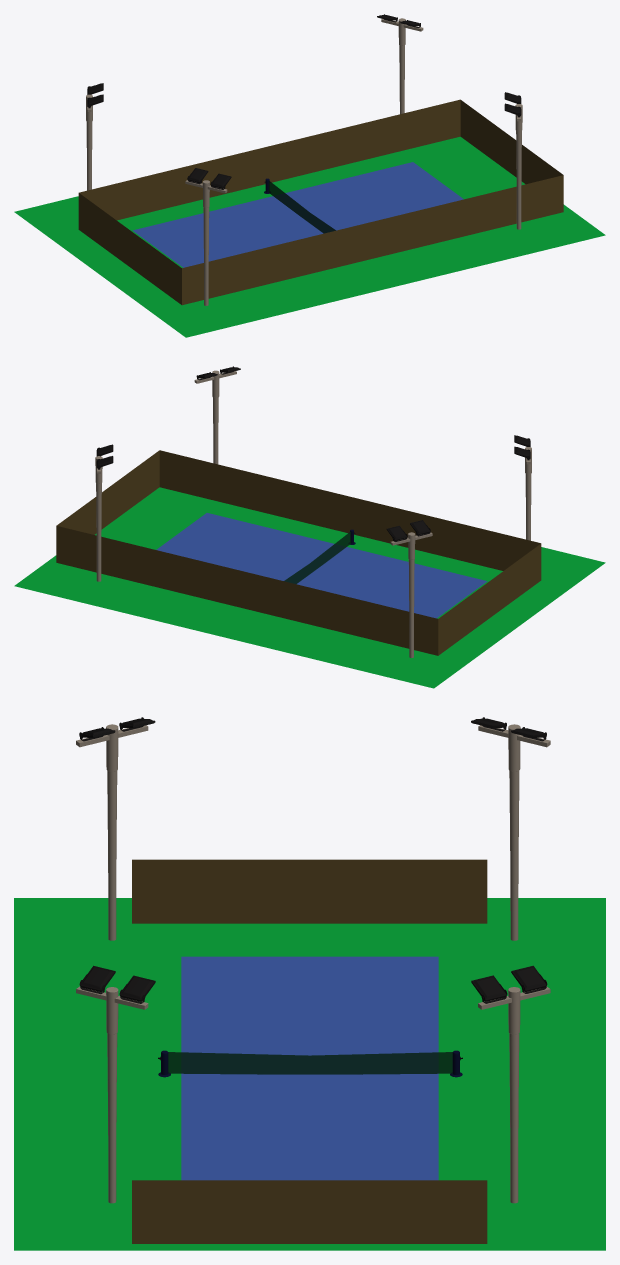
File: TennisCourt.fbx
3 renders of one model, top to bottom at view 1: azimuth 30°, elevation 25°; view 2: azimuth 150°, elevation 25°; view 3: azimuth 270°, elevation 25°, orthographic. The views are drawn at different scales.
Parts seen in each view (by area): view 1: MainFloor, Wall, Field1, Wall_02, Wall_04, Wall_03, FloodLight_03, FloodLight_04, FloodLight, FloodLight_02, Net; view 2: MainFloor, Wall_02, Field1, Wall, Wall_04, Wall_03, FloodLight_02, FloodLight, FloodLight_04, FloodLight_03, Net; view 3: MainFloor, Field1, Wall_04, Wall_03, Net, FloodLight, FloodLight_04, FloodLight_02, FloodLight_03.
Part boxes in pixels (box(x1,y1,x2,y2)): MainFloor: box(14, 136, 605, 337); Wall: box(182, 175, 563, 305); Field1: box(132, 162, 463, 267); Wall_02: box(79, 99, 460, 220); Wall_04: box(78, 193, 181, 304); Wall_03: box(460, 100, 562, 184); FloodLight_03: box(185, 168, 231, 305); FloodLight_04: box(504, 92, 522, 229); FloodLight: box(377, 14, 423, 114); FloodLight_02: box(86, 83, 103, 190); Net: box(268, 180, 335, 233); MainFloor: box(14, 487, 605, 688); Wall_02: box(56, 526, 438, 655); Field1: box(156, 513, 487, 618); Wall: box(159, 450, 540, 570); Wall_04: box(438, 544, 541, 655); Wall_03: box(56, 450, 159, 534); FloodLight_02: box(386, 520, 432, 657); FloodLight: box(95, 444, 113, 581); FloodLight_04: box(194, 366, 240, 464); FloodLight_03: box(514, 435, 531, 540); Net: box(284, 531, 350, 584); MainFloor: box(14, 898, 605, 1250); Field1: box(181, 956, 438, 1180); Wall_04: box(132, 859, 487, 923); Wall_03: box(132, 1180, 487, 1243); Net: box(168, 1052, 452, 1074); FloodLight: box(471, 965, 550, 1203); FloodLight_04: box(76, 965, 155, 1203); FloodLight_02: box(471, 717, 550, 940); FloodLight_03: box(76, 717, 155, 940).
Size of the model in its own units: 3557 by 1038 by 2523.
